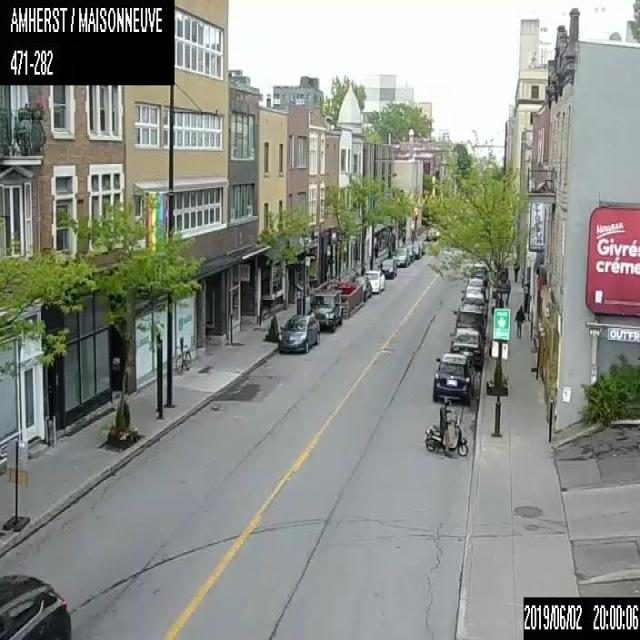construction: (2, 438, 30, 532)
pedestrian: (514, 303, 526, 337), (512, 259, 519, 280)
vehicle: (0, 570, 71, 638), (424, 396, 468, 456), (432, 351, 474, 402), (277, 314, 319, 352), (449, 327, 485, 367), (307, 290, 342, 330), (452, 304, 486, 334), (461, 292, 487, 319), (362, 269, 384, 292), (350, 276, 370, 300), (465, 277, 486, 297), (377, 258, 396, 277), (460, 284, 484, 299), (392, 247, 409, 266), (401, 244, 415, 261), (409, 244, 421, 258)
